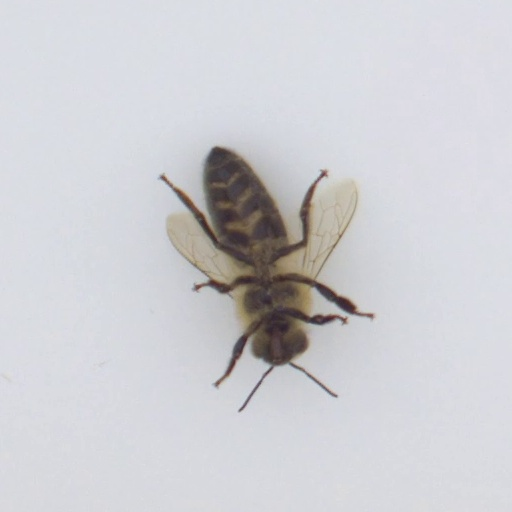Bee: (187, 141, 319, 368)
